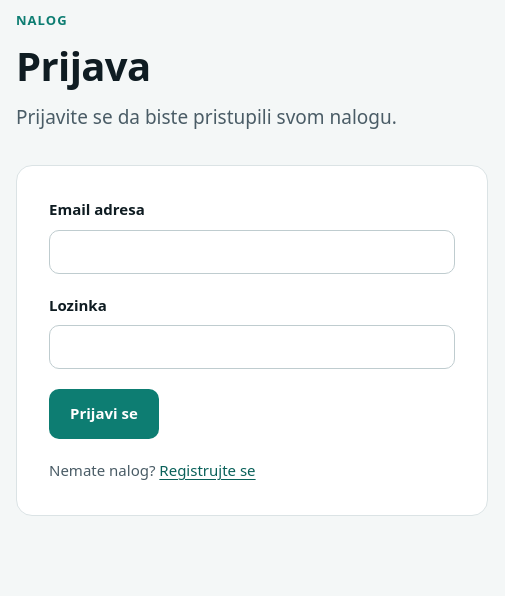
LoginPage validation › an empty form is not submitted to the API
Click the button "Prijavi se".
click(104, 414)  # box [49,389,159,439]
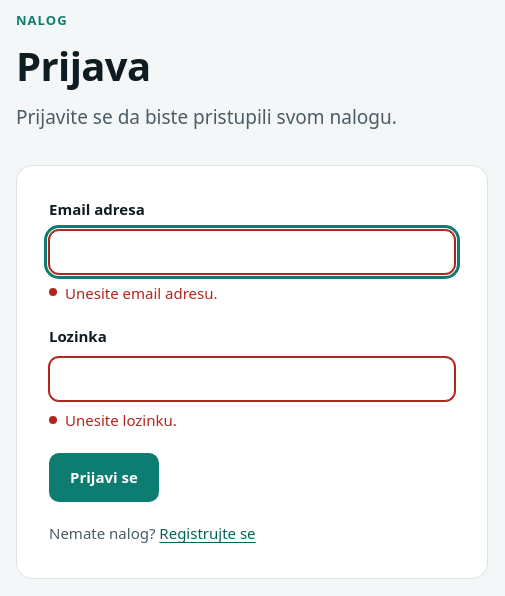
Result: the text "Unesite email adresu." is shown at [65,282,218,302]
Result: the text "Unesite lozinku." is shown at [65,410,177,430]
